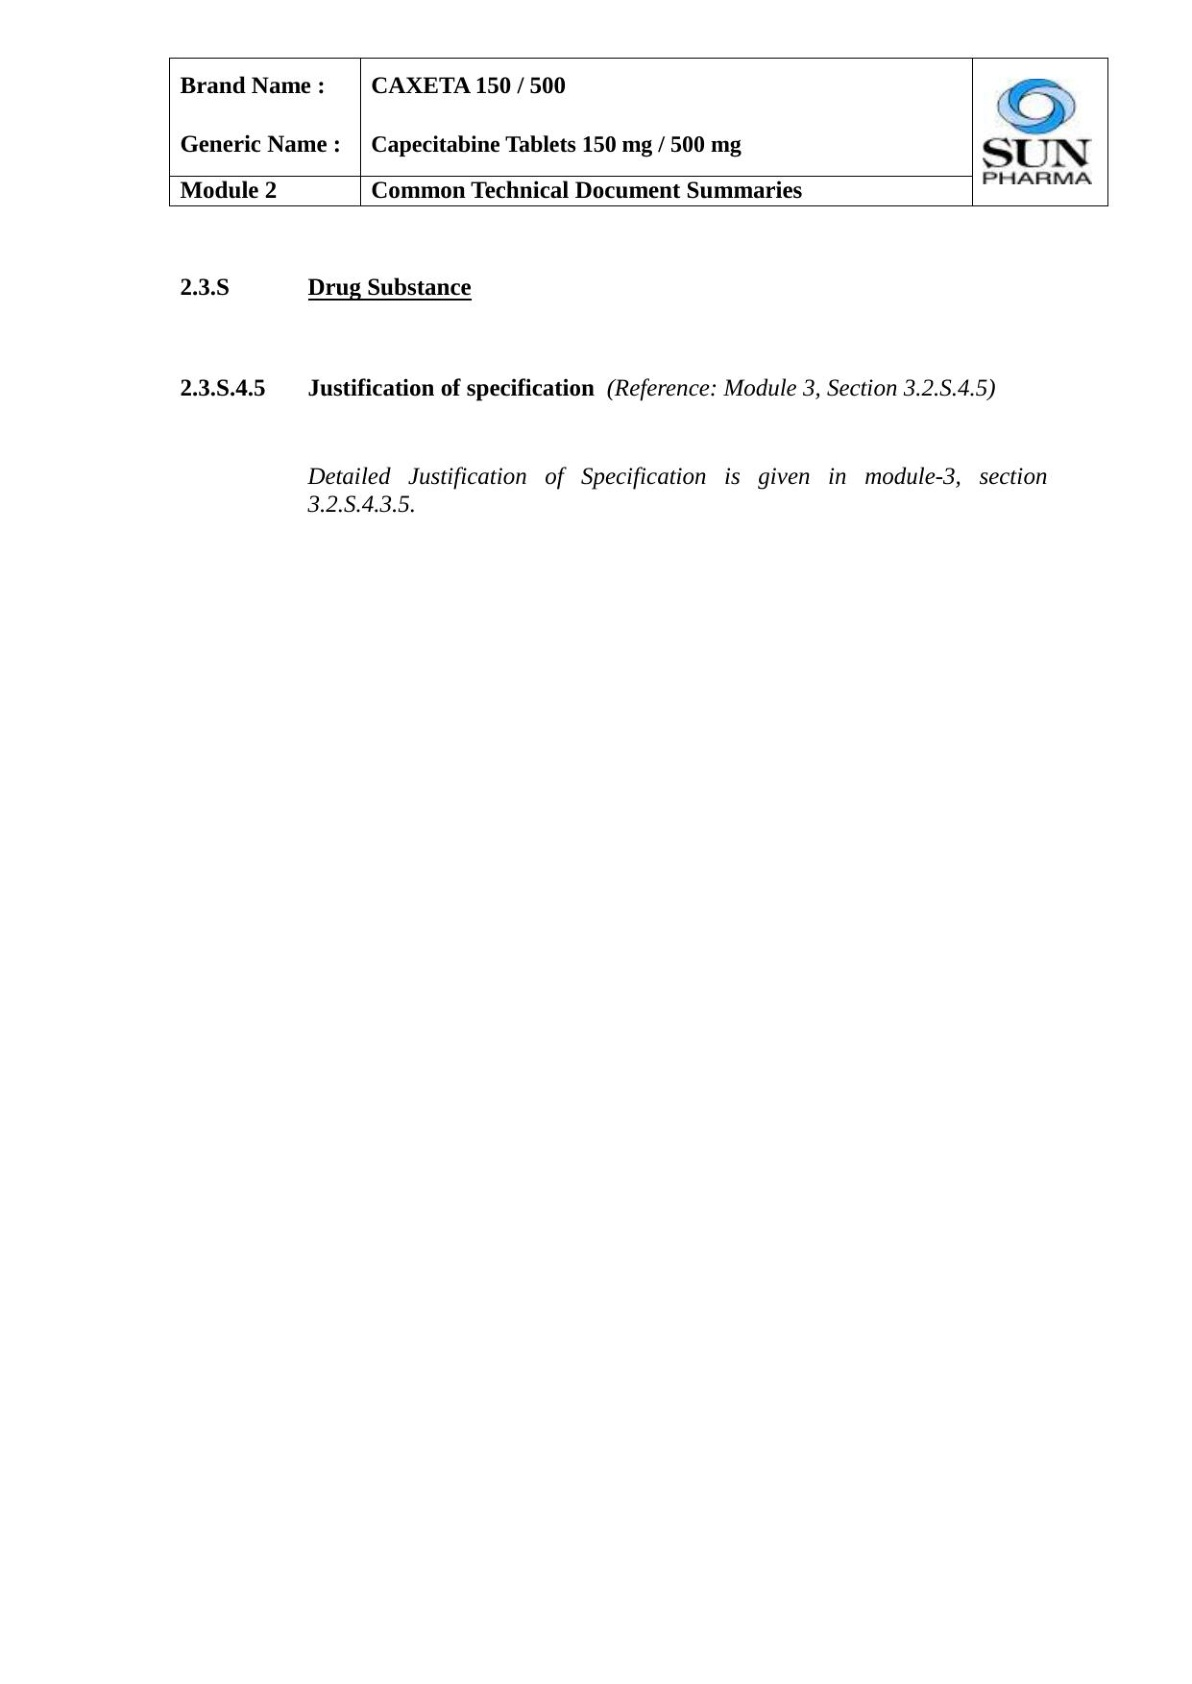merged_cells: (166, 55, 1109, 208)
